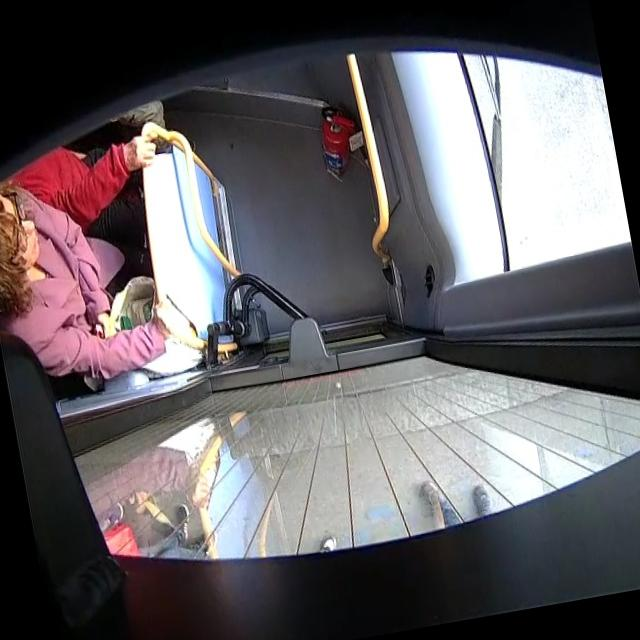bus-door: (0, 324, 640, 640)
